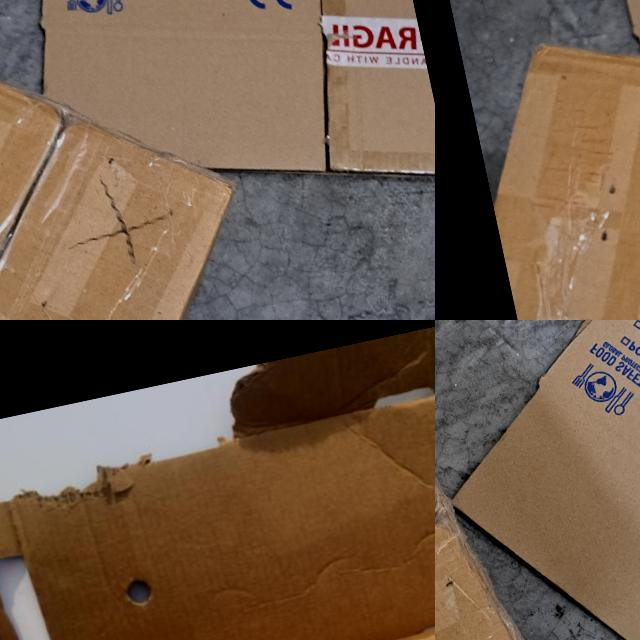papelão: (0, 320, 435, 640), (0, 0, 435, 251), (0, 0, 280, 320), (435, 320, 640, 640), (462, 0, 640, 320), (435, 332, 550, 640)
